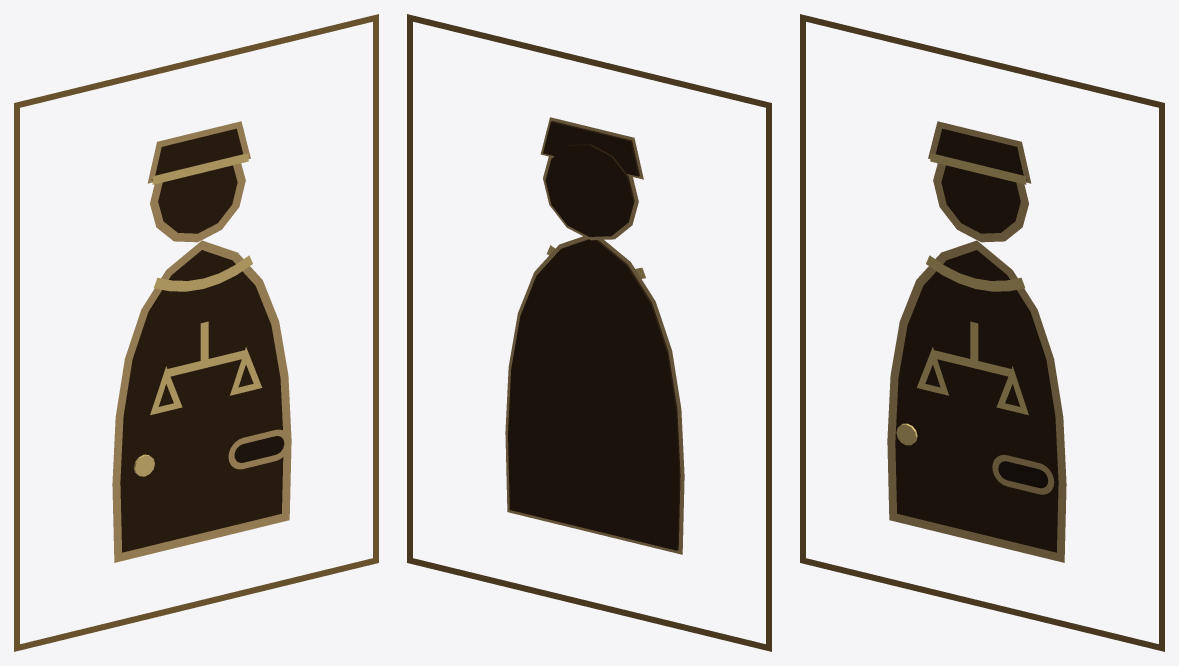
The model's file is npc-melik.glb.
3 views of the same model, side by side, from view 1: azimuth 30°, elevation 25°; view 2: azimuth 150°, elevation 25°; view 3: azimuth 330°, elevation 25° (orthographic).
Visible parts, largest first — view 1: npc-melik; view 2: npc-melik; view 3: npc-melik.
Part boxes in pixels (x1,y1,x2,y2): npc-melik: [14, 14, 378, 651]; npc-melik: [407, 14, 771, 651]; npc-melik: [800, 14, 1164, 651].
Size of the model in its own units: 1.14 by 1.64 by 0.0675.
